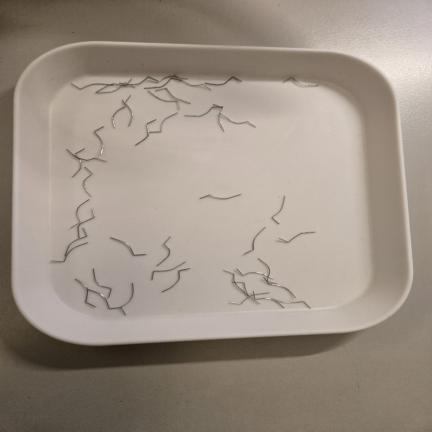probe: (161, 268, 190, 292), (110, 237, 146, 256), (151, 262, 185, 280), (244, 227, 265, 254), (278, 231, 316, 243), (271, 196, 285, 224), (157, 236, 170, 266), (283, 77, 318, 87), (83, 167, 93, 197), (199, 194, 241, 200)
